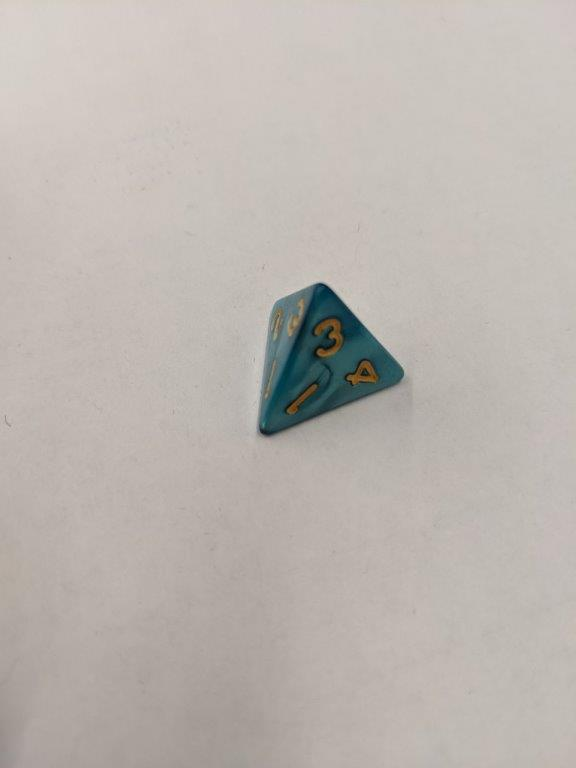d4-3: (251, 278, 408, 439)
